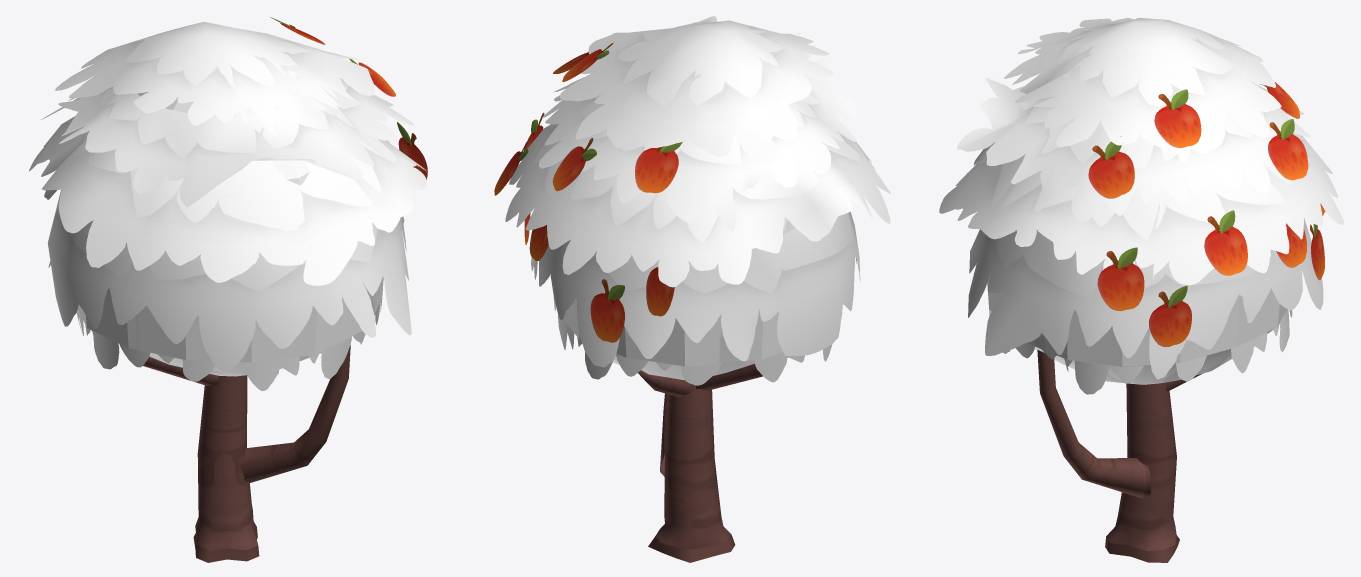
File: AppleTree.fbx
3 views of the same model, side by side, from view 1: azimuth 30°, elevation 25°; view 2: azimuth 150°, elevation 25°; view 3: azimuth 270°, elevation 25° (orthographic). The views are drawn at different scales.
Visible parts, largest first — view 1: TreeFruitCrown2b, TreeFruitCrown1b, TreeFruitTrunkSmallB, FruitTreeBranch, TreeFruitStumpSmallB, FruitApple2 (3); view 2: TreeFruitCrown2b, TreeFruitTrunkSmallB, TreeFruitCrown1b, FruitApple1 (6), FruitApple2 (1), TreeFruitStumpSmallB, FruitApple1 (5), FruitApple1 (1), FruitApple1 (2), FruitApple1; view 3: TreeFruitCrown2b, TreeFruitCrown1b, TreeFruitTrunkSmallB, FruitTreeBranch, FruitApple2 (3), FruitApple1, FruitApple1 (3), FruitApple2, FruitApple2 (2), FruitApple1 (5), TreeFruitStumpSmallB, FruitApple1 (2) (+2 smaller).
Part boxes in pixels (box(x1,y1,x2,y2)): TreeFruitCrown2b: box(29, 22, 426, 370); TreeFruitCrown1b: box(76, 92, 383, 390); TreeFruitTrunkSmallB: box(143, 356, 257, 550); FruitTreeBranch: box(240, 345, 350, 482); TreeFruitStumpSmallB: box(193, 527, 259, 562); FruitApple2 (3): box(397, 122, 427, 179); TreeFruitCrown2b: box(505, 16, 890, 367); TreeFruitTrunkSmallB: box(638, 363, 762, 549); TreeFruitCrown1b: box(553, 217, 832, 385); FruitApple1 (6): box(635, 142, 682, 193); FruitApple2 (1): box(590, 279, 624, 342); TreeFruitStumpSmallB: box(648, 534, 735, 562); FruitApple1 (5): box(552, 138, 596, 191); FruitApple1 (1): box(646, 267, 674, 316); FruitApple1 (2): box(529, 225, 548, 261); FruitApple1: box(494, 140, 528, 195); TreeFruitCrown2b: box(939, 17, 1344, 379); TreeFruitCrown1b: box(987, 184, 1292, 394); TreeFruitTrunkSmallB: box(1106, 373, 1202, 551); FruitTreeBranch: box(1037, 350, 1150, 498); FruitApple2 (3): box(1097, 247, 1144, 311); FruitApple1: box(1204, 210, 1247, 275); FruitApple1 (3): box(1154, 89, 1201, 147); FruitApple2: box(1088, 136, 1134, 198); FruitApple2 (2): box(1148, 286, 1191, 347); FruitApple1 (5): box(1268, 119, 1308, 180); TreeFruitStumpSmallB: box(1105, 535, 1179, 562); FruitApple1 (2): box(1276, 223, 1306, 267).
Size of what is drawn, in the model's own units: 4.35 by 5.7 by 4.22.
